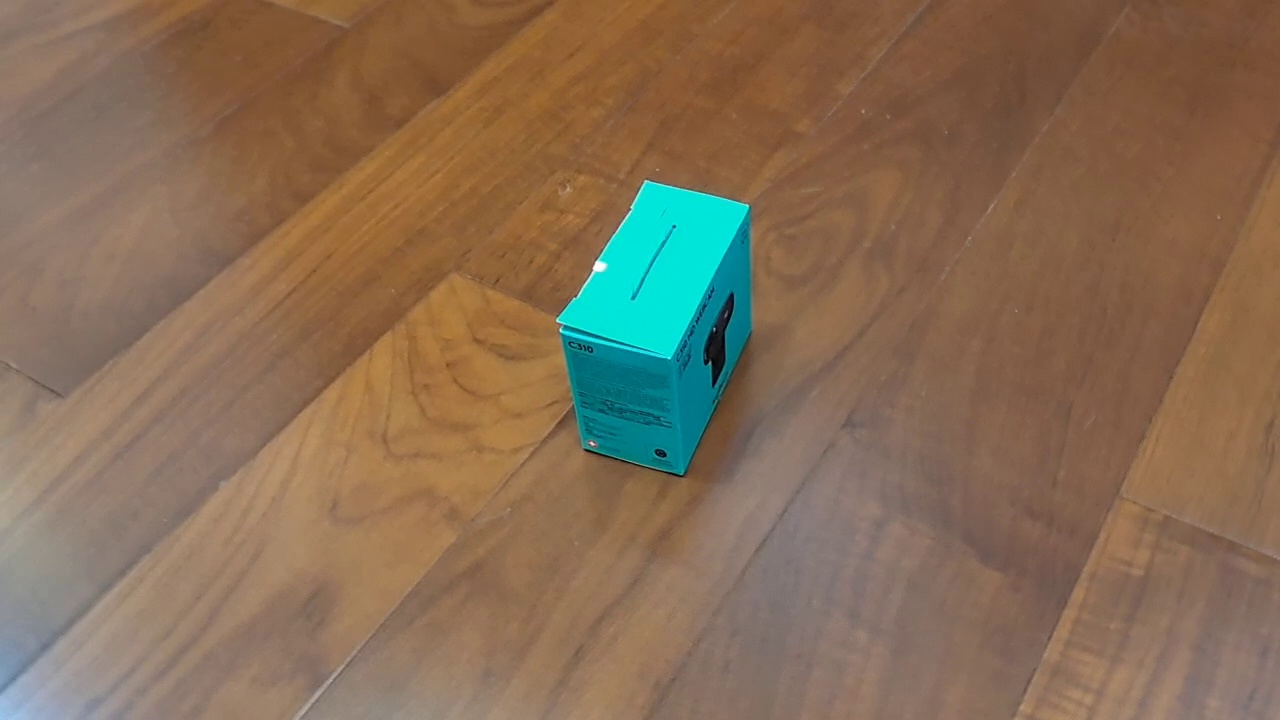webcam: (554, 177, 754, 479)
